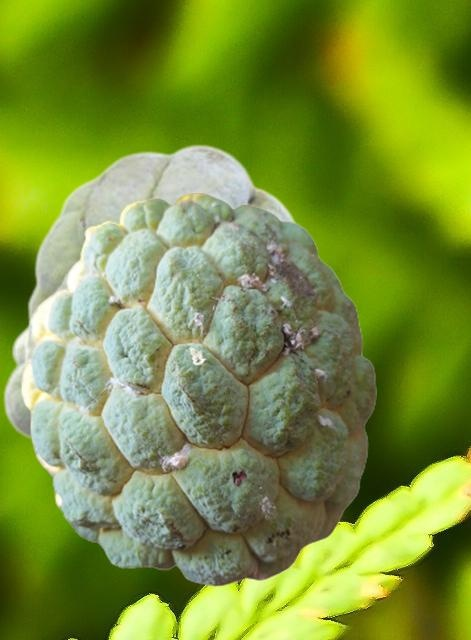atis: (20, 192, 375, 585), (2, 143, 301, 442)
